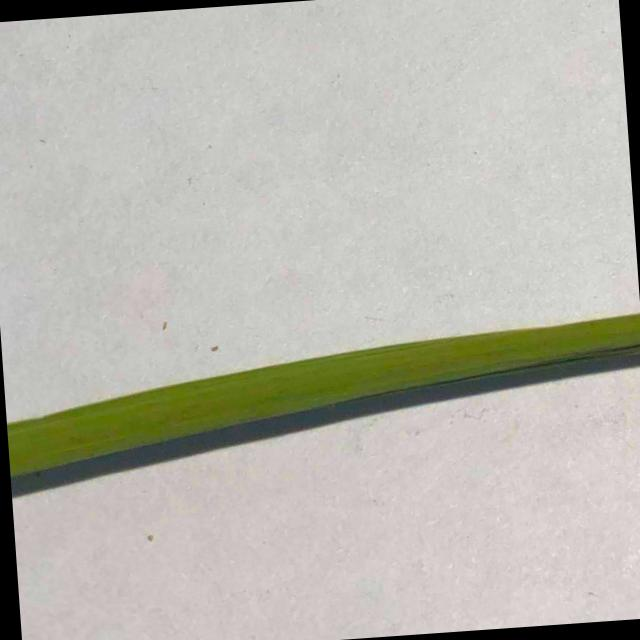Rice_Healthy: (7, 311, 640, 478)
